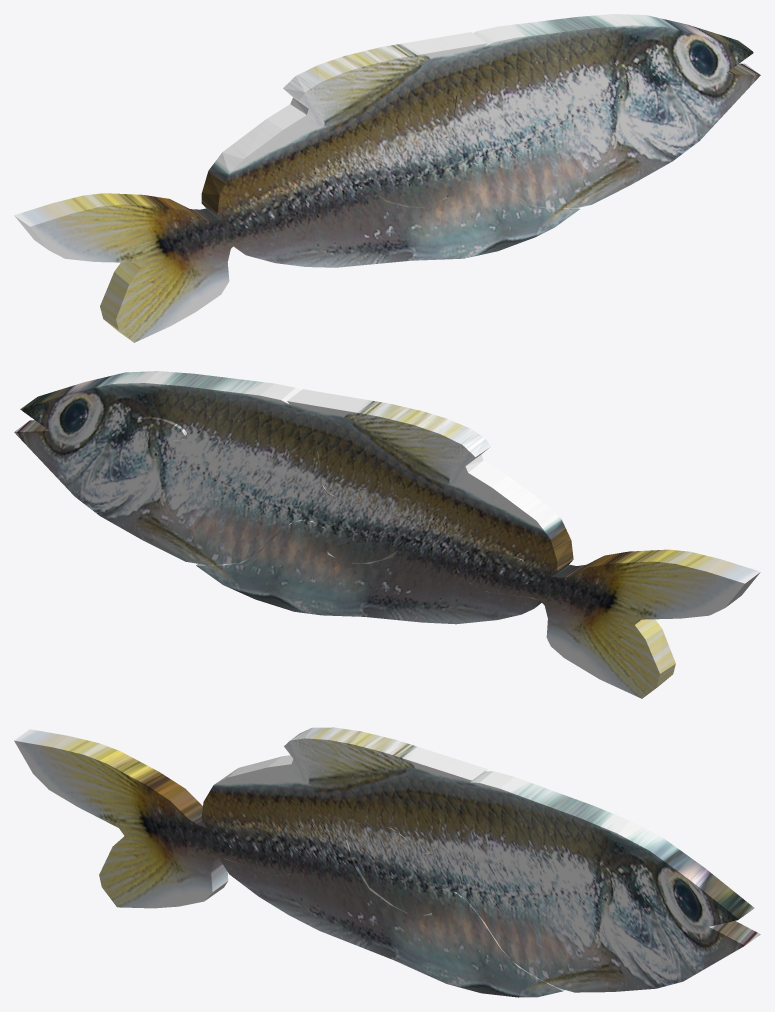
The model's file is Fish_swarm_Leadfish.dae.
3 views of the same model, one above another, from view 1: azimuth 30°, elevation 25°; view 2: azimuth 150°, elevation 25°; view 3: azimuth 330°, elevation 25° (orthographic).
Visible parts, largest first — view 1: Line01; view 2: Line01; view 3: Line01.
Boxes of the visible parts, box(x1,y1,x2,y2) form: Line01: box(14, 14, 760, 342); Line01: box(14, 371, 760, 698); Line01: box(14, 727, 760, 997).
Size of the model in its own units: 2.64 by 0.1169 by 0.7597.
Materials: 1 (1 with a texture image).
